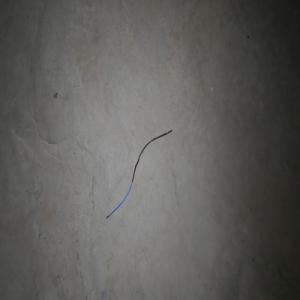Wire: (105, 129, 172, 219)
